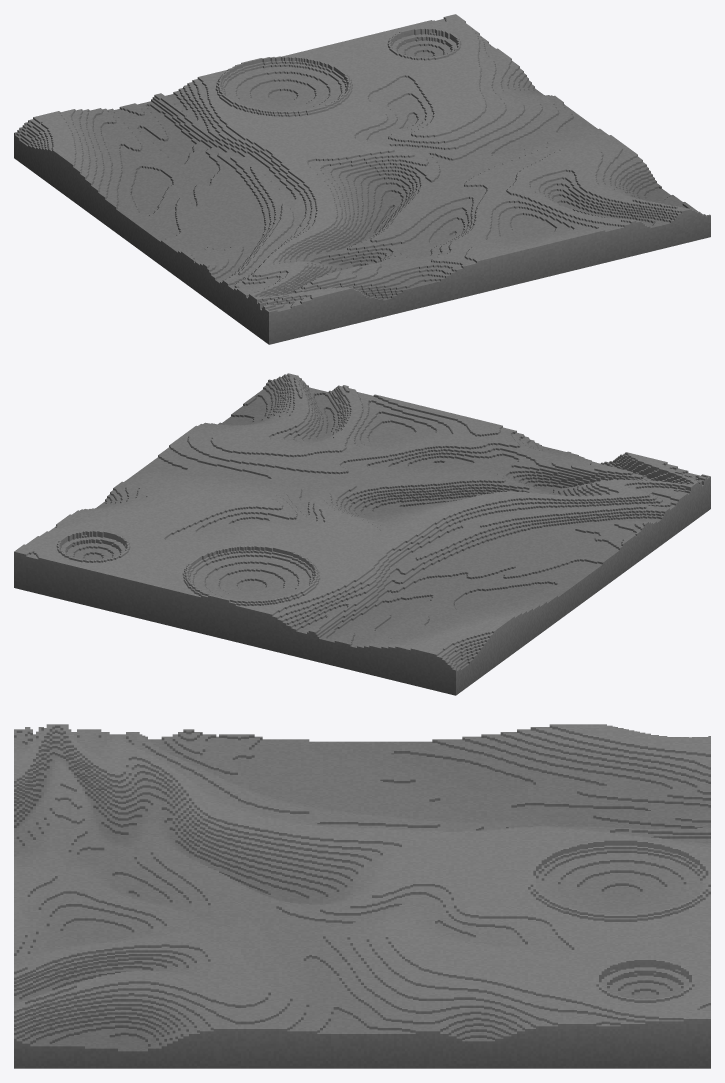
Rendered from LunaGrande-8.obj.
3 views of the same model, one above another, from view 1: azimuth 30°, elevation 25°; view 2: azimuth 150°, elevation 25°; view 3: azimuth 270°, elevation 25° (orthographic). The views are drawn at different scales.
Size of the model in its own units: 25.5 by 2.2 by 25.5.
1 material, 1 textured.
